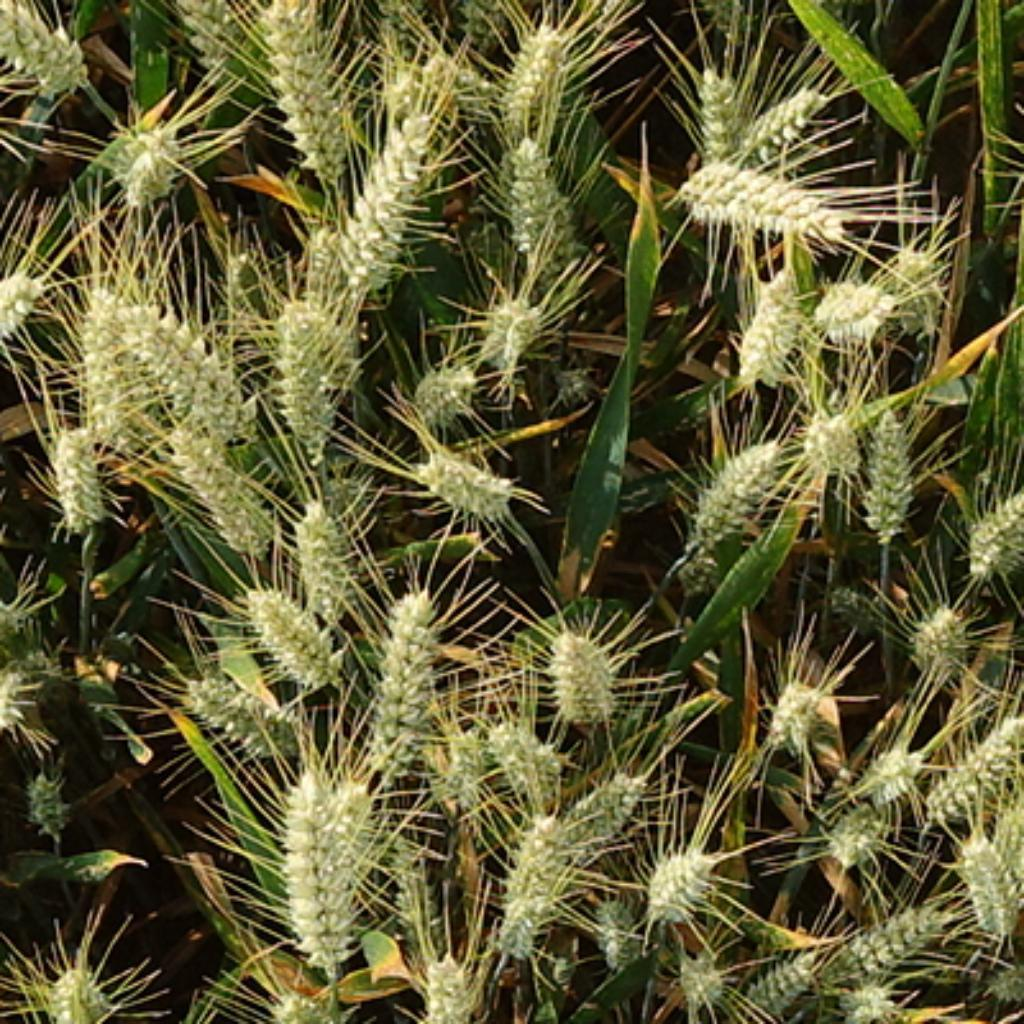0-0: (74, 273, 256, 427), (307, 107, 445, 294), (263, 747, 381, 960), (245, 2, 363, 176), (670, 145, 852, 240), (360, 576, 450, 760), (685, 65, 833, 173), (261, 294, 358, 453), (158, 417, 276, 545), (491, 798, 586, 952), (680, 424, 788, 555), (486, 125, 586, 261), (176, 650, 302, 757), (71, 289, 153, 432), (923, 703, 1021, 818), (238, 573, 343, 680), (821, 890, 952, 972), (415, 437, 527, 522), (852, 401, 921, 537), (99, 102, 192, 202), (686, 51, 768, 163), (729, 263, 808, 378), (540, 611, 624, 719), (552, 757, 650, 847), (40, 414, 115, 527), (2, 2, 97, 89), (724, 939, 819, 1024), (286, 491, 360, 599), (151, 2, 238, 92), (500, 19, 573, 126), (381, 826, 448, 939), (878, 238, 954, 335), (483, 719, 568, 803), (808, 263, 901, 337), (381, 53, 450, 148), (640, 832, 719, 913), (957, 478, 1024, 573), (407, 942, 483, 1024), (760, 663, 834, 747), (960, 828, 1010, 949), (476, 281, 552, 360), (819, 785, 898, 860), (330, 778, 384, 883), (903, 593, 975, 670), (286, 222, 353, 304), (404, 348, 481, 419), (796, 396, 867, 471), (430, 48, 514, 110), (849, 732, 921, 801), (591, 885, 650, 967), (430, 719, 488, 801), (2, 266, 58, 350), (261, 975, 355, 1024), (816, 573, 888, 634), (668, 939, 727, 1003), (545, 360, 611, 414), (23, 760, 74, 829), (834, 970, 898, 1024), (675, 545, 724, 604), (49, 965, 94, 1023), (980, 949, 1024, 1000), (2, 671, 32, 744), (2, 591, 38, 629)
